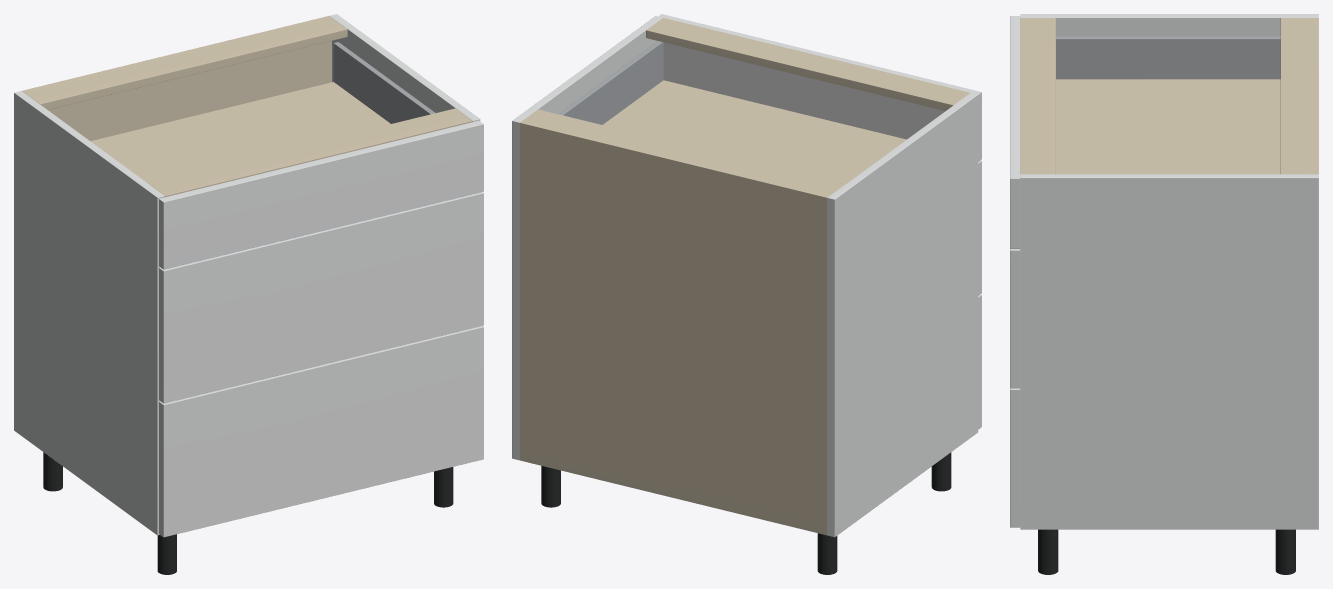
Rendered from oppein-ply-pgw-3db30.glb.
3 views of the same model, side by side, from view 1: azimuth 30°, elevation 25°; view 2: azimuth 150°, elevation 25°; view 3: azimuth 270°, elevation 25° (orthographic). The views are drawn at different scales.
Visible parts, largest first — view 1: Cabinet side, Drawer front, Drawer front.001, Drawer front.002, Drawer floor.002, Cabinet back, Top support rail, Top support rail.001, Drawer side.005, Cabinet side.001, Adjustable foot.001, Adjustable foot.003 (+1 smaller); view 2: Cabinet back, Cabinet side, Drawer floor.002, Drawer front.002, Top support rail.001, Cabinet side.001, Top support rail, Drawer side.005, Cabinet bottom, Adjustable foot, Adjustable foot.002, Adjustable foot.001; view 3: Cabinet side.001, Drawer floor.002, Drawer side.004, Top support rail.001, Cabinet side, Top support rail, Drawer front.002, Drawer front, Drawer front.001, Adjustable foot.003, Adjustable foot.002, Cabinet back.
Boxes of the visible parts, box(x1,y1,x2,y2) form: Cabinet side: box(14, 91, 164, 535); Drawer front: box(159, 326, 483, 537); Drawer front.001: box(159, 192, 483, 403); Drawer front.002: box(159, 120, 483, 269); Drawer floor.002: box(90, 82, 390, 183); Cabinet back: box(22, 16, 331, 140); Top support rail: box(23, 17, 347, 109); Top support rail.001: box(148, 108, 472, 197); Drawer side.005: box(333, 42, 435, 123); Cabinet side.001: box(329, 14, 480, 121); Adjustable foot.001: box(157, 534, 176, 574); Adjustable foot.003: box(434, 467, 453, 507); Cabinet back: box(519, 120, 829, 534); Cabinet side: box(827, 93, 978, 537); Drawer floor.002: box(603, 80, 906, 184); Drawer front.002: box(658, 14, 981, 161); Top support rail.001: box(646, 18, 970, 110); Cabinet side.001: box(512, 16, 662, 460); Top support rail: box(523, 109, 844, 195); Drawer side.005: box(558, 41, 663, 124); Cabinet bottom: box(520, 453, 826, 535); Adjustable foot: box(817, 533, 837, 574); Adjustable foot.002: box(541, 466, 560, 507); Adjustable foot.001: box(931, 452, 951, 491); Cabinet side.001: box(1020, 174, 1318, 529); Drawer floor.002: box(1056, 79, 1280, 174); Drawer side.004: box(1056, 36, 1280, 79); Top support rail.001: box(1020, 18, 1055, 174); Cabinet side: box(1020, 14, 1318, 36); Top support rail: box(1280, 18, 1315, 174); Drawer front.002: box(1010, 16, 1020, 248); Drawer front: box(1010, 388, 1020, 527); Drawer front.001: box(1010, 249, 1020, 388); Adjustable foot.003: box(1038, 529, 1058, 574); Adjustable foot.002: box(1275, 529, 1295, 574); Cabinet back: box(1313, 18, 1318, 174).
Bounding box in the file's own units: 0.762 × 0.8763 × 0.6064.
